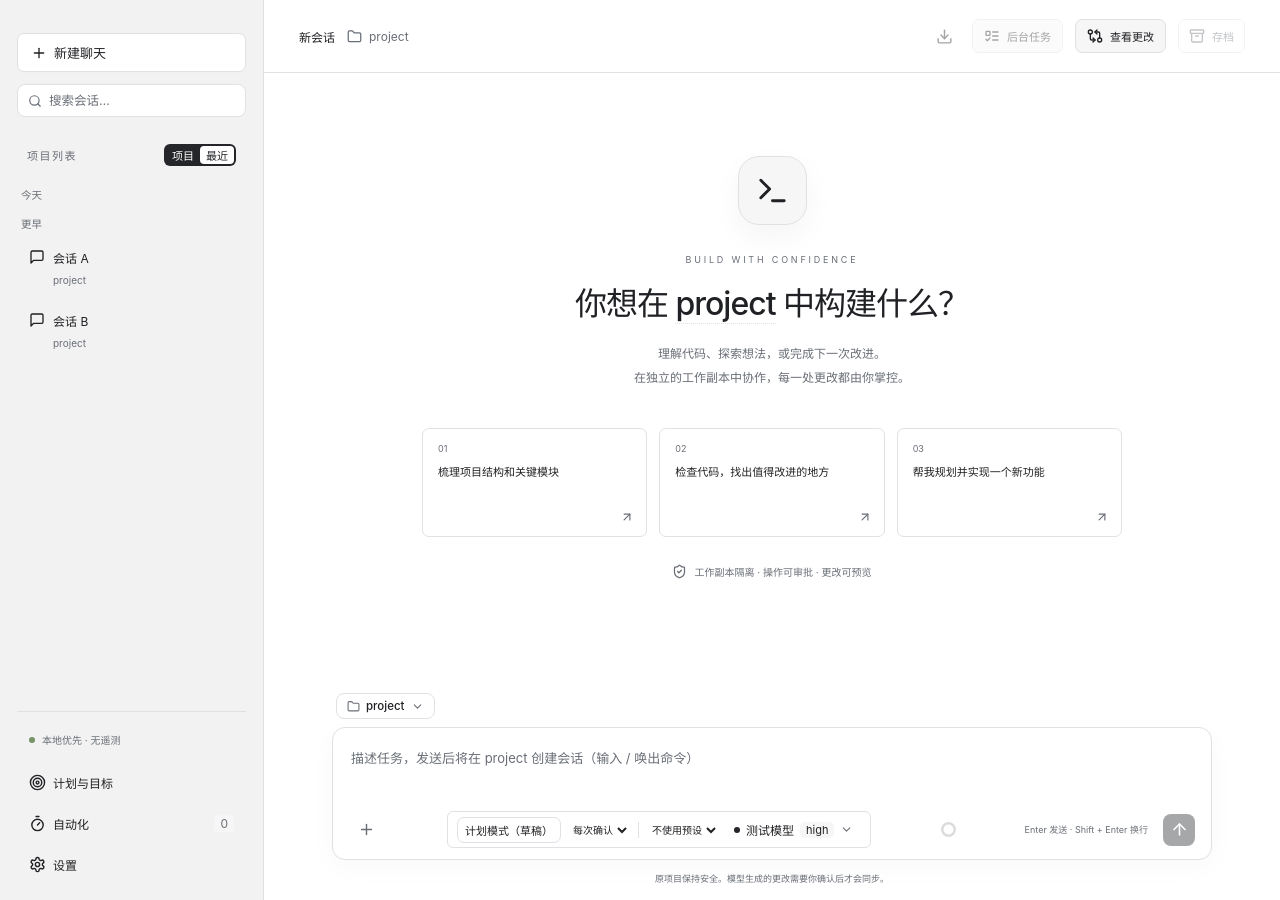
计划模式 composer 入口 › 切换会话后读取对应状态，丢弃旧会话迟到结果
Step 1. Click the button "会话 A project" → (126, 268), box [17,238,236,297]
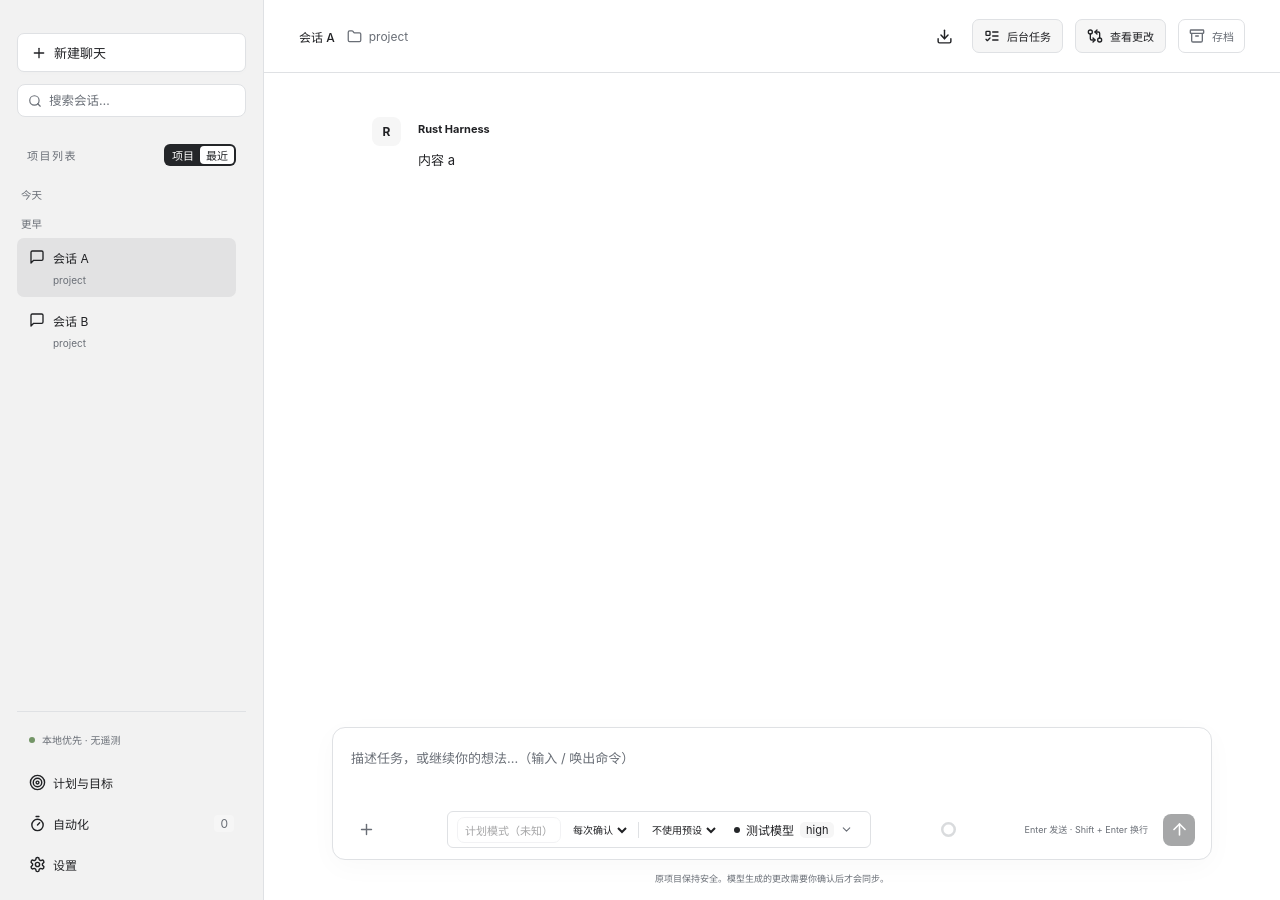
Expected: the text "内容 a" is shown, [418,152,455,168]
Step 2. Click the button "会话 B project" → (126, 330), box [17,301,236,360]
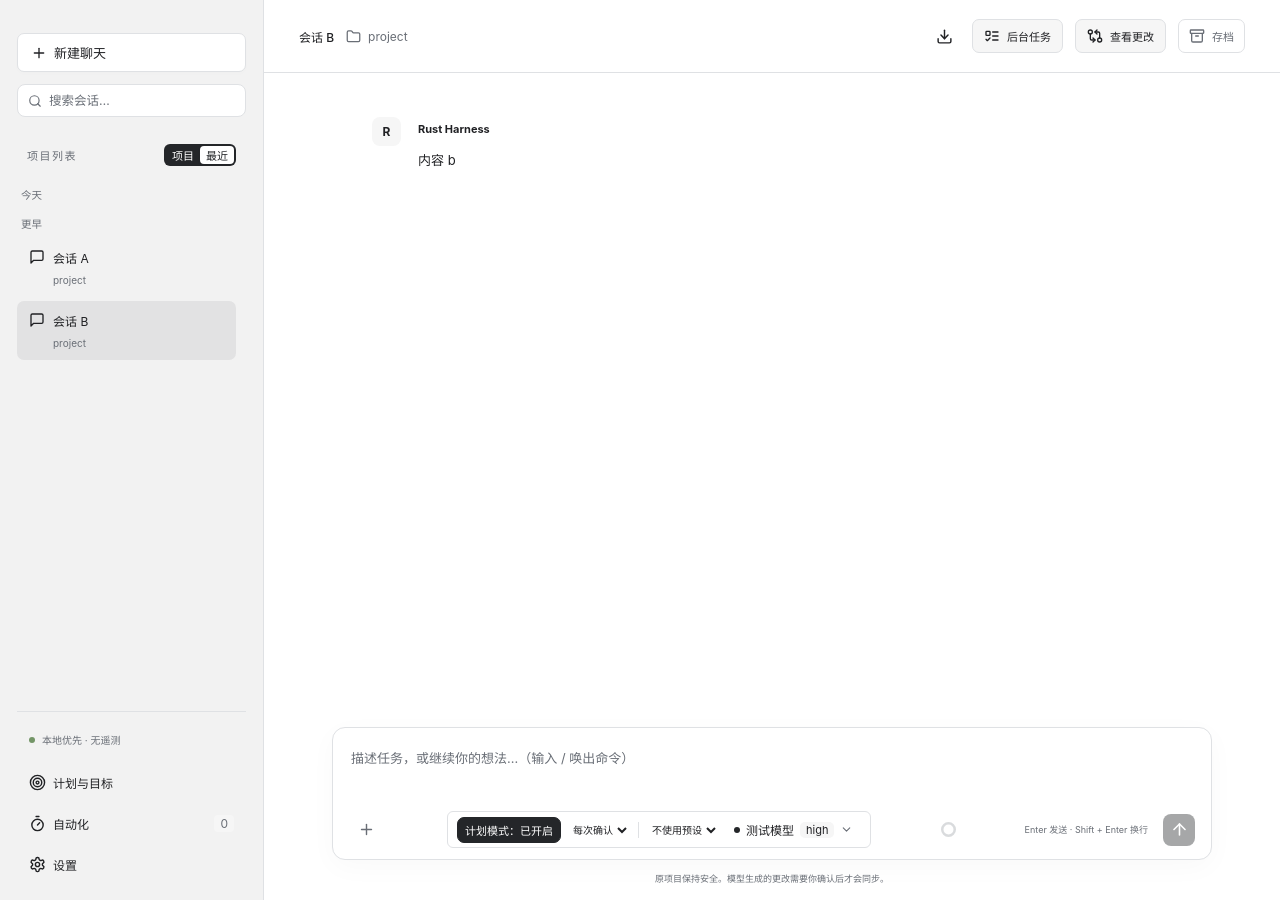
Expected: the text "内容 b" is shown, [418,152,456,168]
